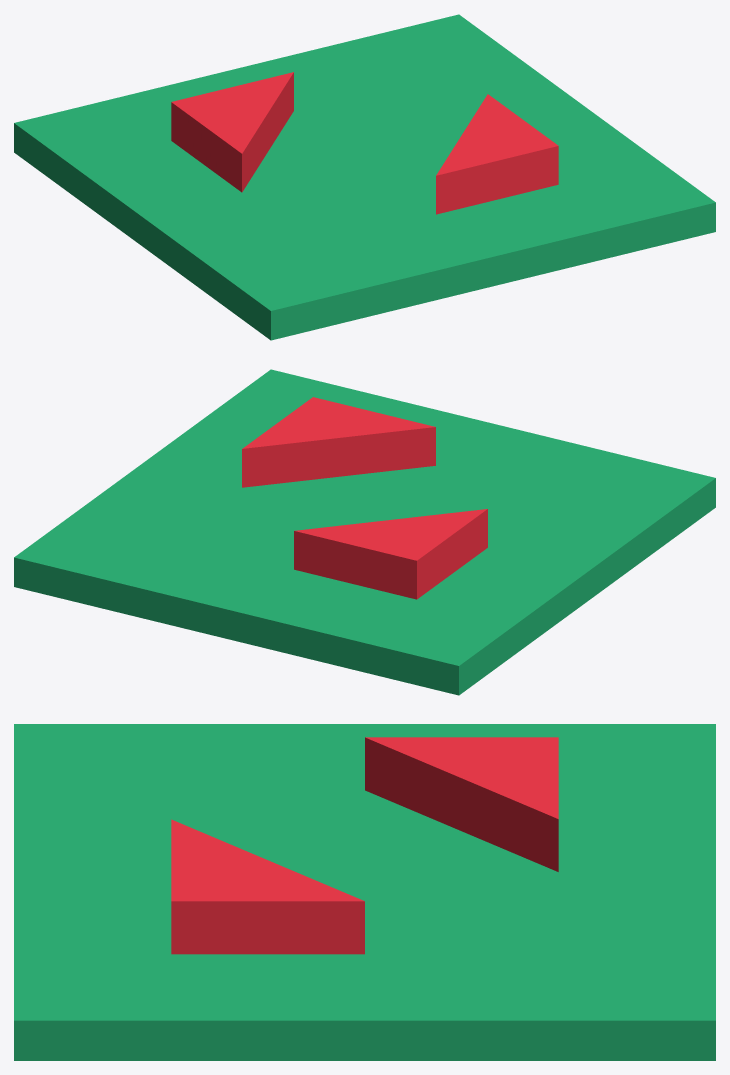
The model's file is obstacleTriangle.fbx.
3 renders of one model, top to bottom at view 1: azimuth 30°, elevation 25°; view 2: azimuth 150°, elevation 25°; view 3: azimuth 270°, elevation 25°, orthographic. The views are drawn at different scales.
Parts seen in each view (by area): view 1: obstacleTriangle; view 2: obstacleTriangle; view 3: obstacleTriangle.
Part boxes in pixels (x1=…): obstacleTriangle: x1=14, y1=14, x2=715, y2=340; obstacleTriangle: x1=14, y1=369, x2=715, y2=695; obstacleTriangle: x1=14, y1=724, x2=715, y2=1060.
Size of the model in its own units: 10 by 1.47 by 10.
